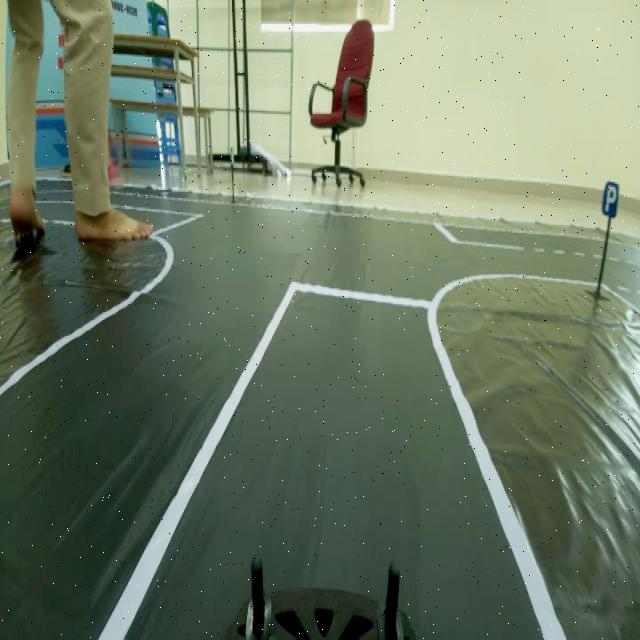parking: (603, 171, 624, 227)
